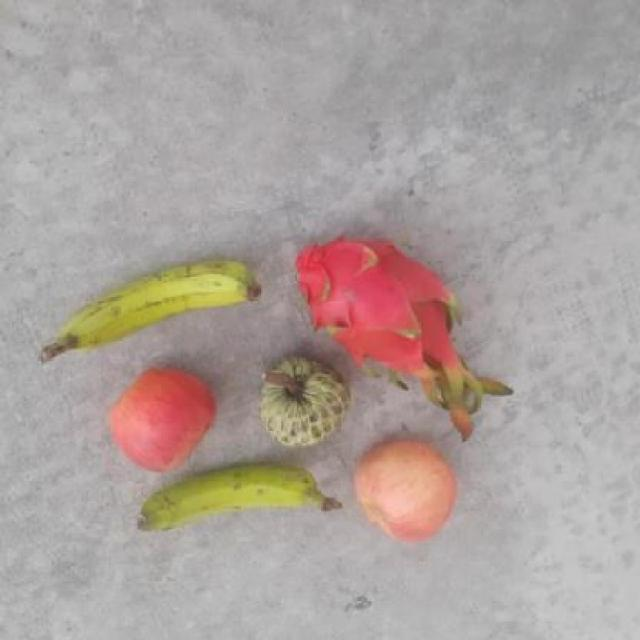apple: (108, 367, 214, 473), (357, 443, 458, 545)
banana: (61, 253, 265, 364), (138, 454, 325, 538)
dragon fruit: (294, 230, 461, 373)
sugar apple: (249, 358, 343, 451)
